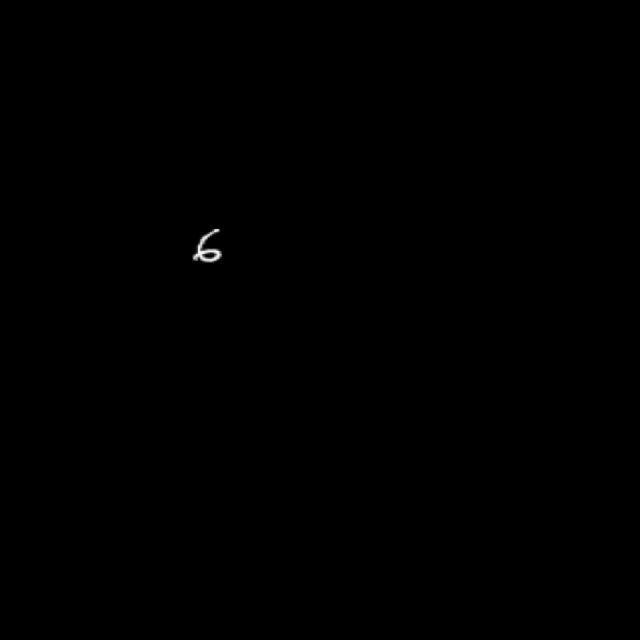six -6-: (185, 220, 236, 269)
